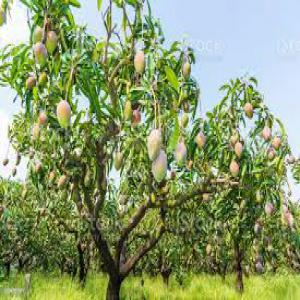Tree: (2, 0, 208, 294), (196, 69, 297, 295)
